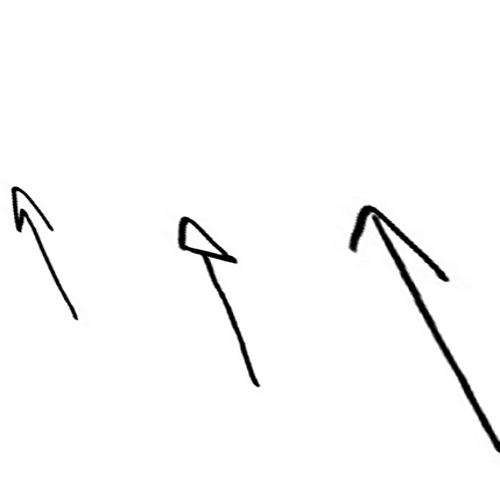arrow: (347, 202, 500, 449), (175, 215, 264, 389), (11, 184, 80, 321)
